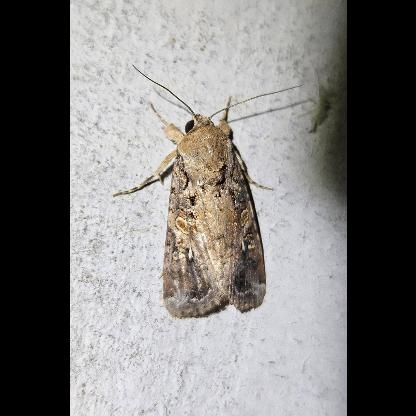Fall Armyworm Moth: (110, 63, 304, 322)
